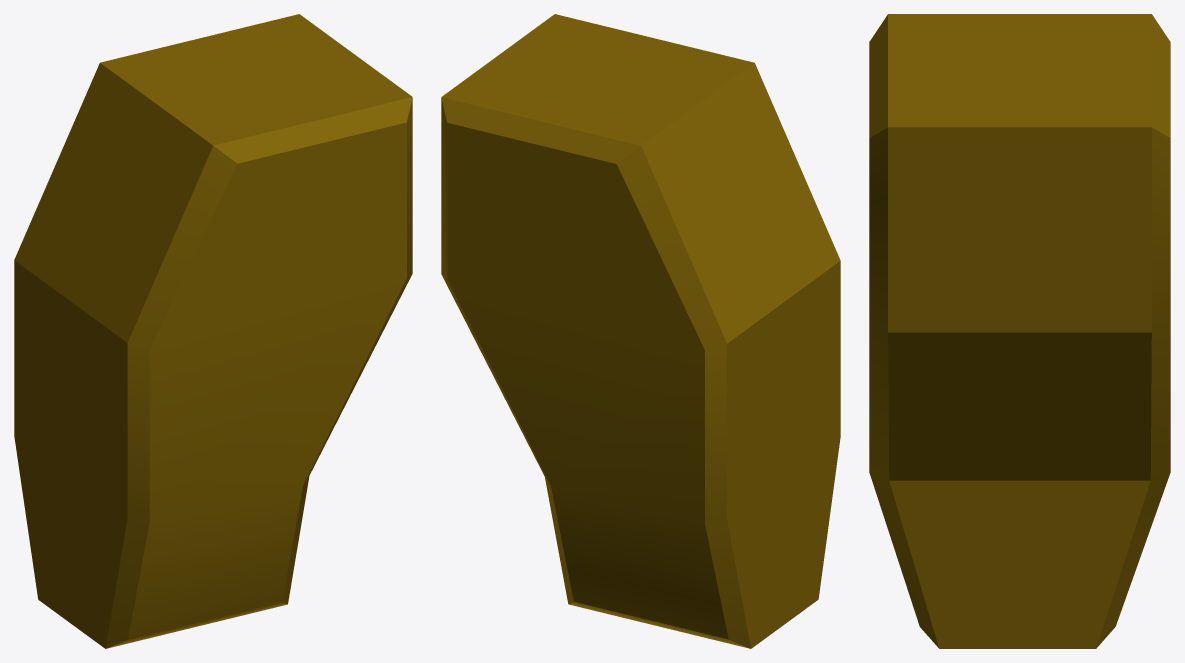
The model's file is mesh_BuildingA_TrimOffsetCap3_v2.fbx.
3 renders of one model, left to right at view 1: azimuth 30°, elevation 25°; view 2: azimuth 150°, elevation 25°; view 3: azimuth 270°, elevation 25°, orthographic. The views are drawn at different scales.
Parts seen in each view (by area): view 1: mesh_BuildingA_TrimOffsetCap3; view 2: mesh_BuildingA_TrimOffsetCap3; view 3: mesh_BuildingA_TrimOffsetCap3.
Boxes of the visible parts, x1,y1,x2,y2 form: mesh_BuildingA_TrimOffsetCap3: (14, 14, 412, 648); mesh_BuildingA_TrimOffsetCap3: (441, 14, 840, 648); mesh_BuildingA_TrimOffsetCap3: (869, 14, 1170, 648).
Bounding box in the file's own units: 63.86 × 107 × 50.22.
